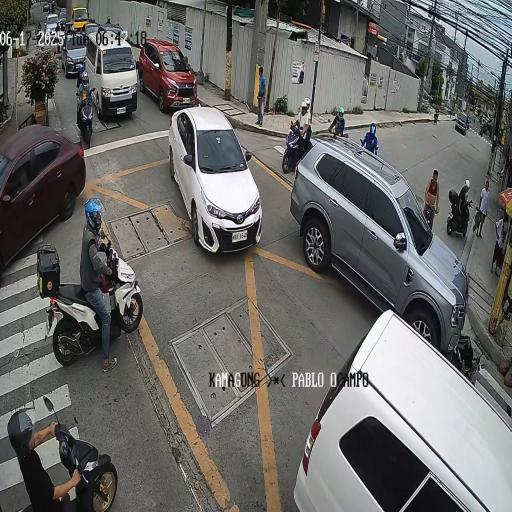Car: (271, 315, 505, 512), (294, 130, 454, 356), (160, 103, 274, 263), (130, 30, 213, 112), (86, 24, 148, 124)
Motor: (26, 197, 147, 337), (0, 380, 130, 508), (281, 85, 317, 183), (442, 318, 490, 389), (67, 65, 100, 144), (448, 172, 472, 254)
